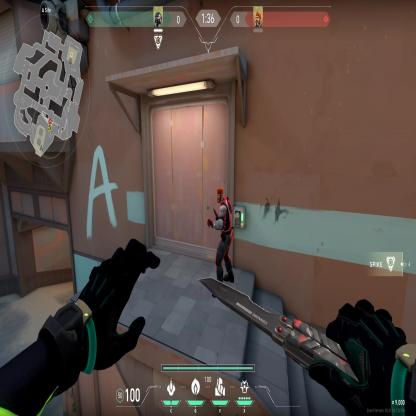enemy: (204, 186, 236, 298)
